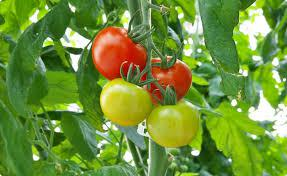tomato: (95, 26, 145, 81), (144, 54, 194, 104)
